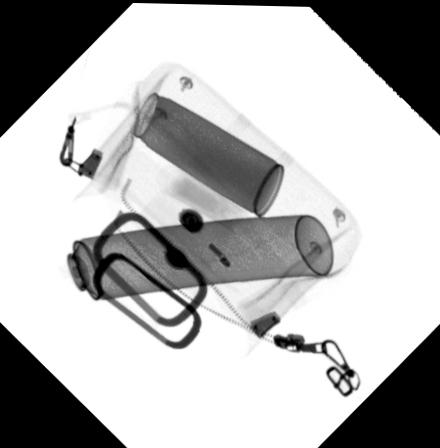Sprayer: (28, 210, 335, 309)
